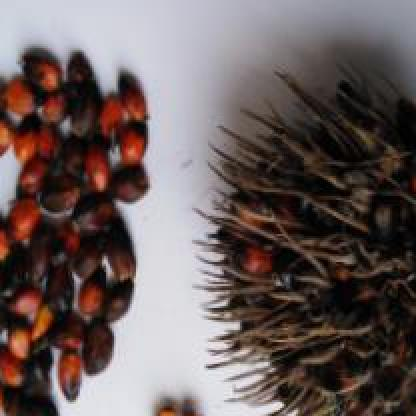Unripe: (176, 46, 416, 416)
